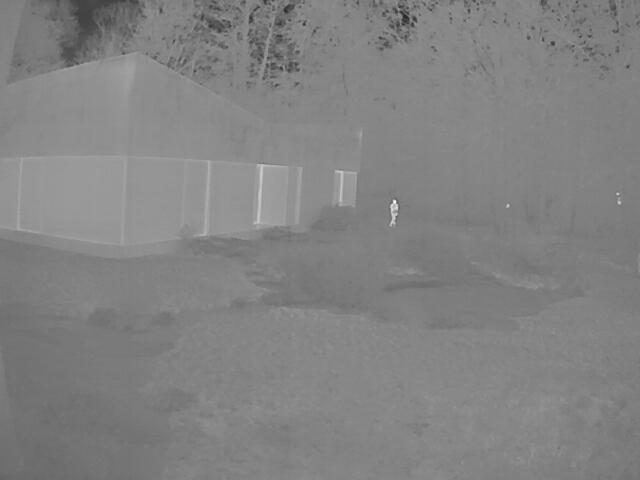person: (387, 198, 398, 227)
